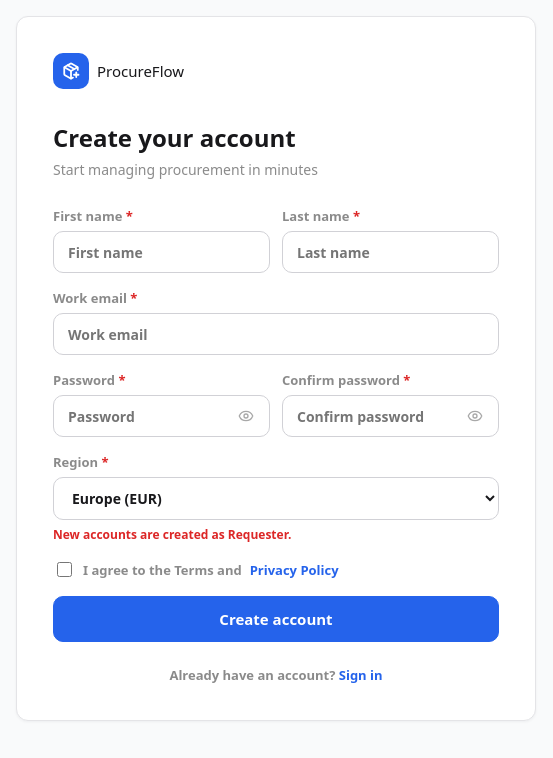
Test case: AuthView › shows signup validation errors
This screenshot has width=553, height=758.
Click the button "Create account". click: (276, 619)
box: [53,596,499,642]
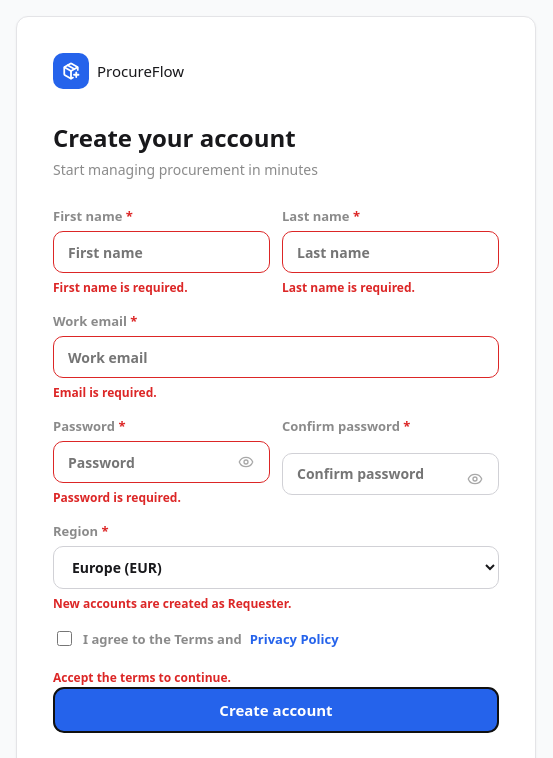
Expected: the text "First name is required." is shown, [53,279,188,296]
Expected: the text "Last name is required." is shown, [282,279,415,296]
Expected: the text "Accept the terms to continue." is shown, [53,669,231,686]
